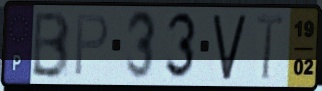3: (161, 10, 201, 82), (124, 7, 158, 85)
B: (29, 9, 72, 81)
P: (72, 12, 111, 79)
T: (255, 12, 285, 82)
V: (211, 11, 249, 82)
